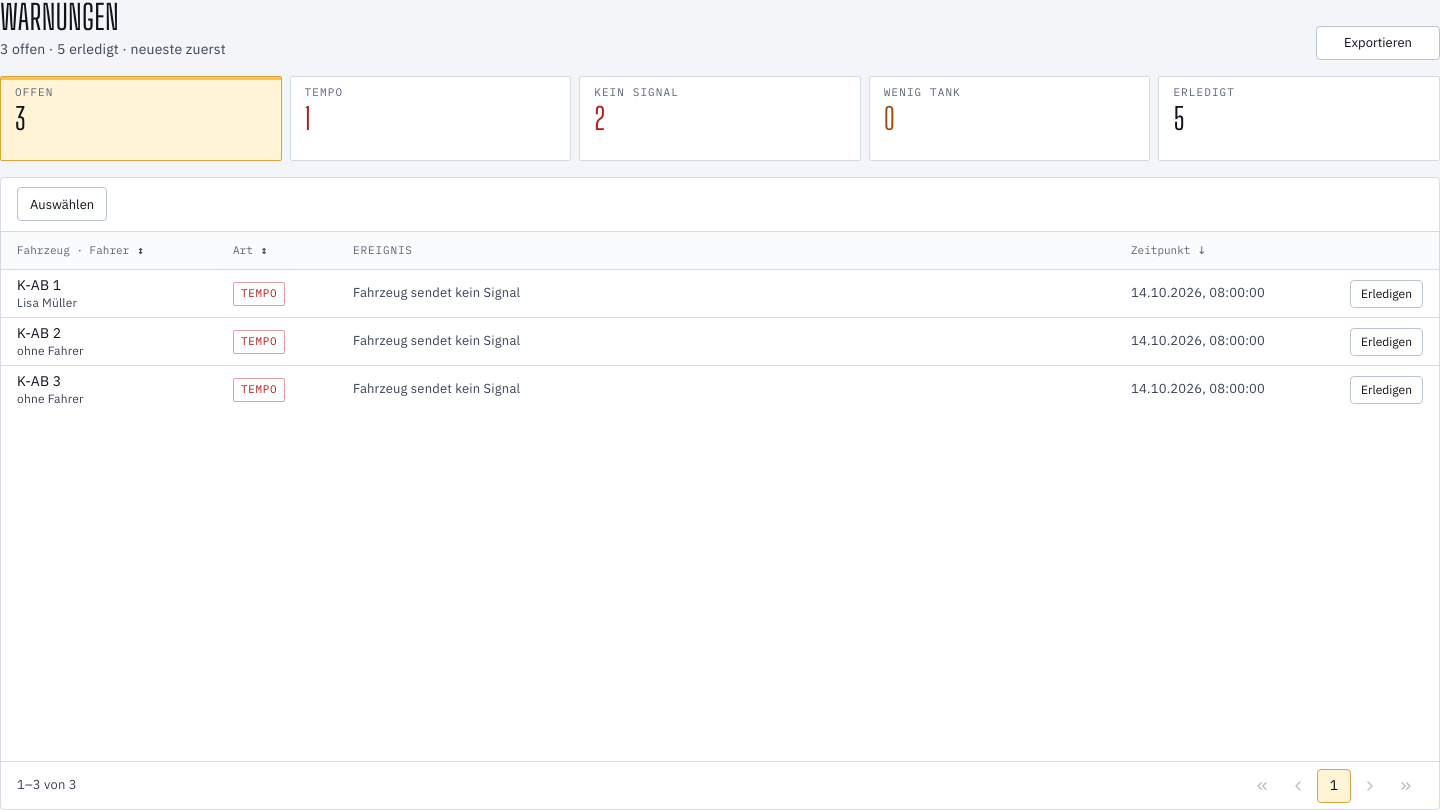
Test: alert list page › keeps the dialog open with the API error
The image size is (1440, 810).
Expected: the text "K-AB 1" is shown, [17, 276, 61, 294]
Step 1. Click the button "Auswählen" → (62, 204), box [17, 187, 107, 221]
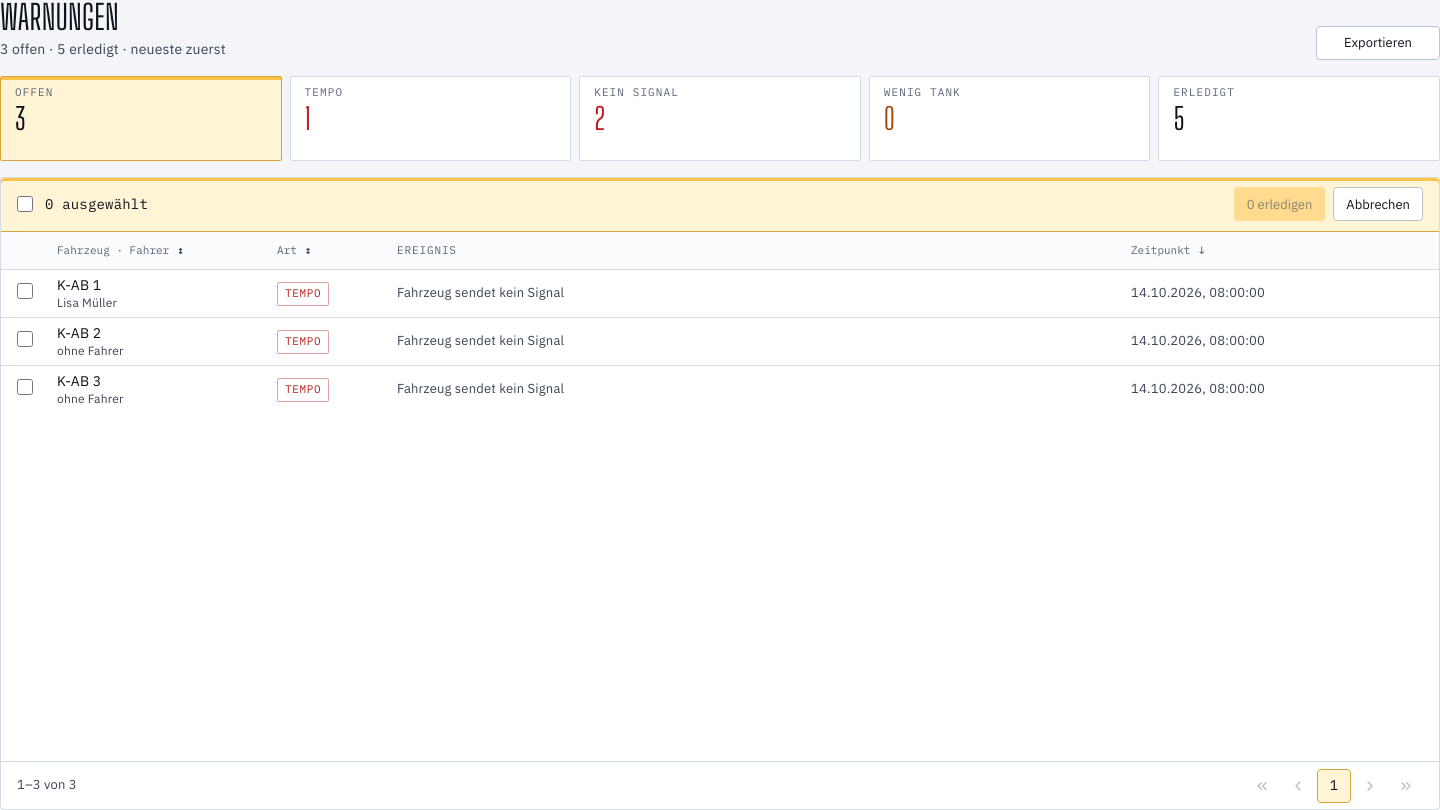
Step 2. Click the checkbox named "Warnung K-AB 2, 14.10.2026, 08:00:00 auswählen" → (25, 339), box [17, 331, 33, 347]
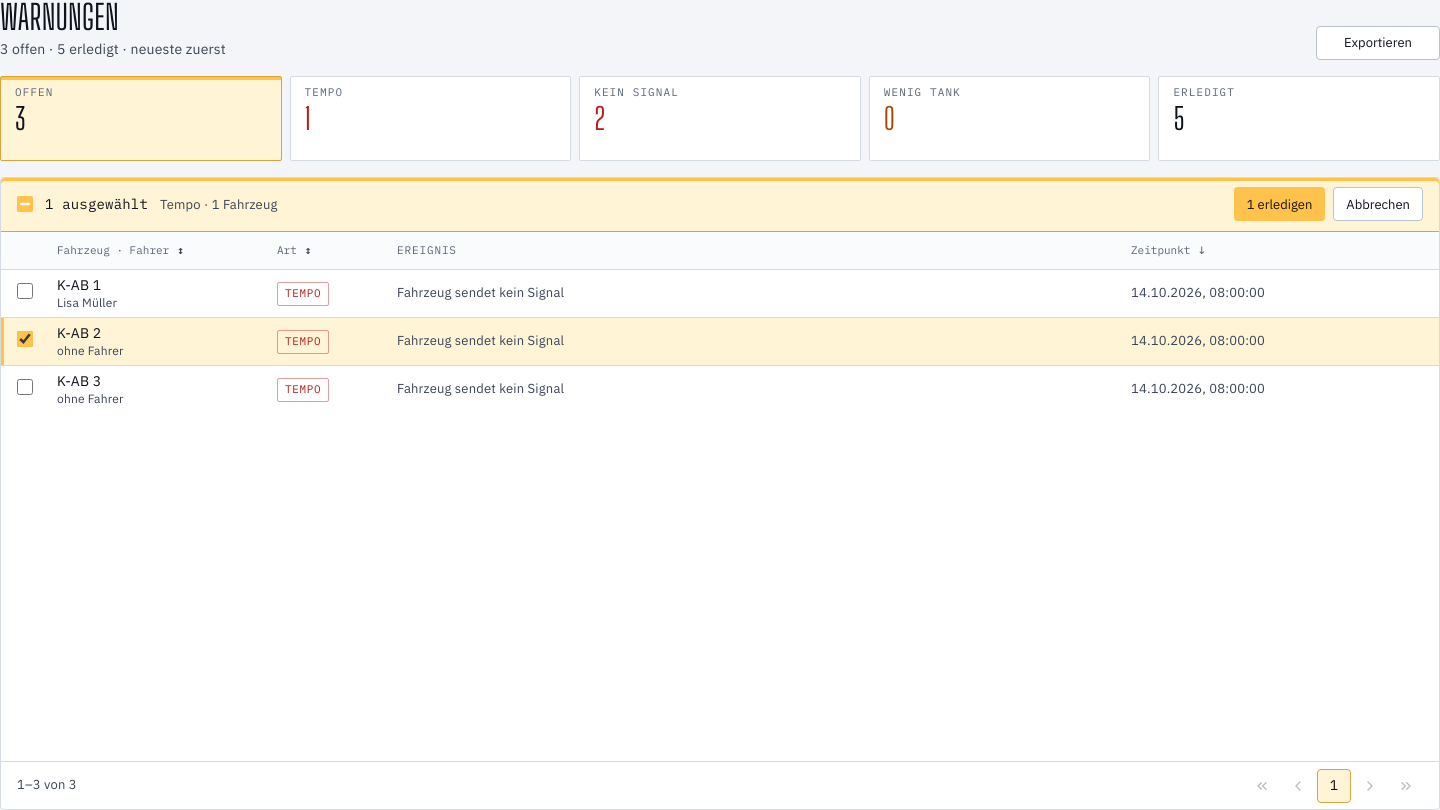
Step 3. Click the button "1 erledigen" → (1280, 204), box [1234, 187, 1325, 221]
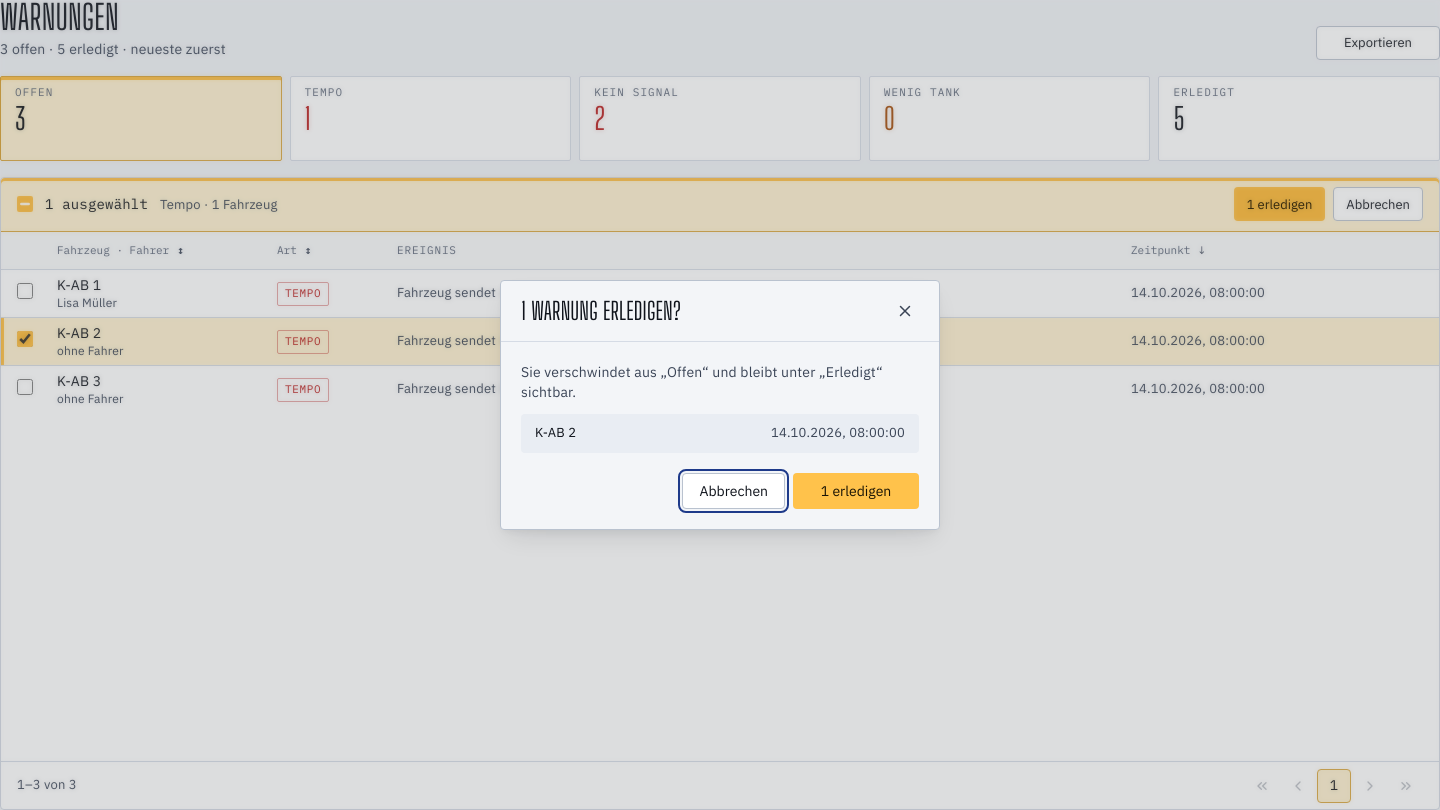
Step 4. Click the button "1 erledigen" → (856, 491), box [793, 473, 919, 509]
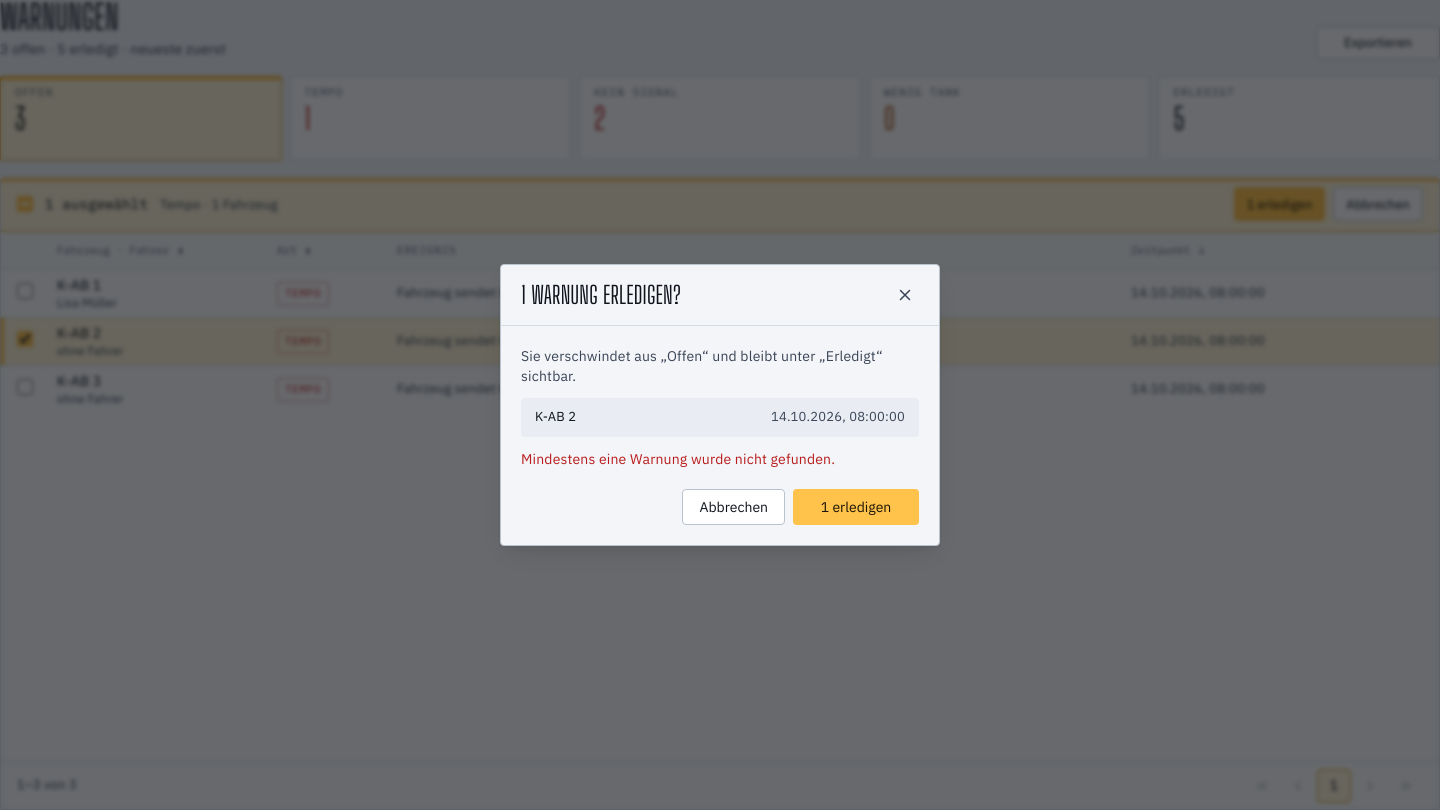
Now the text "1 ausgewählt" is shown, box [45, 194, 148, 214]
Now the text "Mindestens eine Warnung wurde nicht gefunden." is shown, box [521, 450, 835, 468]
